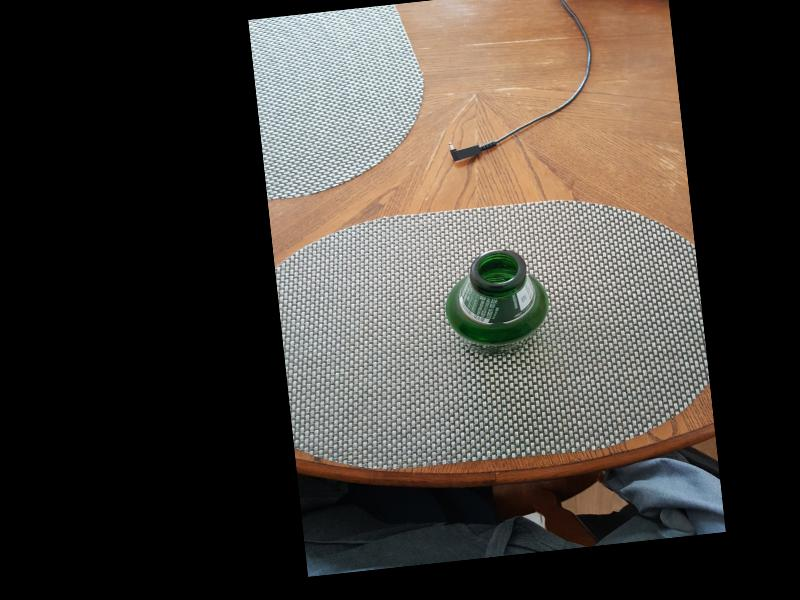Beer: (444, 246, 547, 359)
